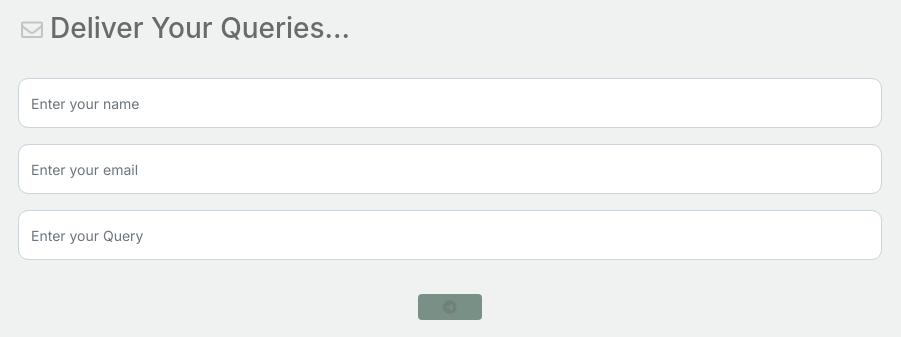
Test: submit button is enabled when all required fields are filled
The image size is (901, 337).
Type "John Doe" into the field with placeholder "Enter your name" at (450, 103), box left=18, top=78, right=882, bottom=128
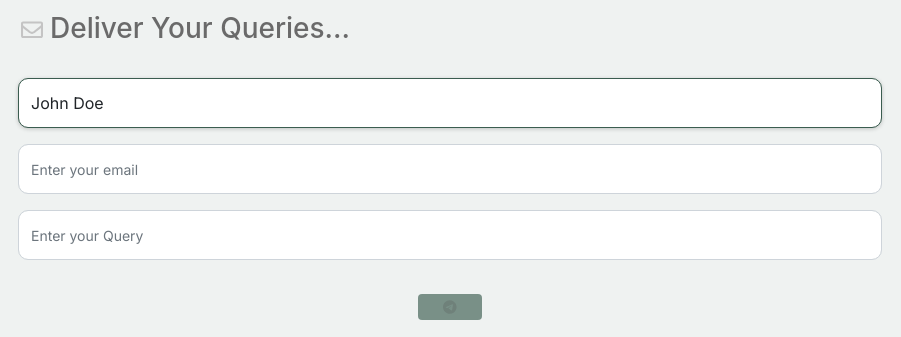
Type "john.doe@example.com" into the field with placeholder "Enter your email" at (450, 169), box left=18, top=144, right=882, bottom=194
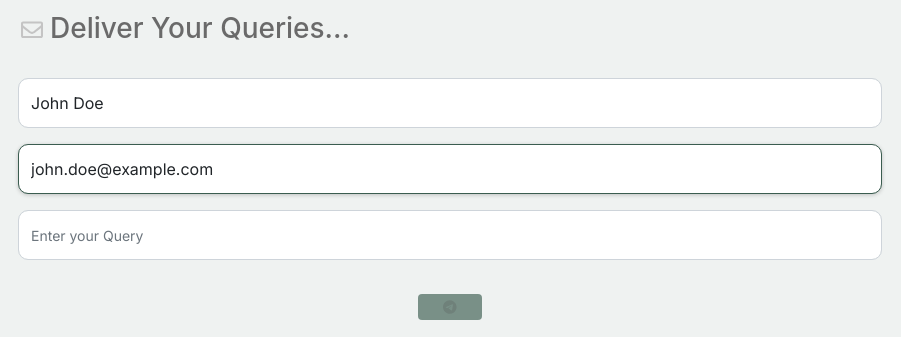
Type "Test query" into the field with placeholder "Enter your Query" at (450, 235), box left=18, top=210, right=882, bottom=260
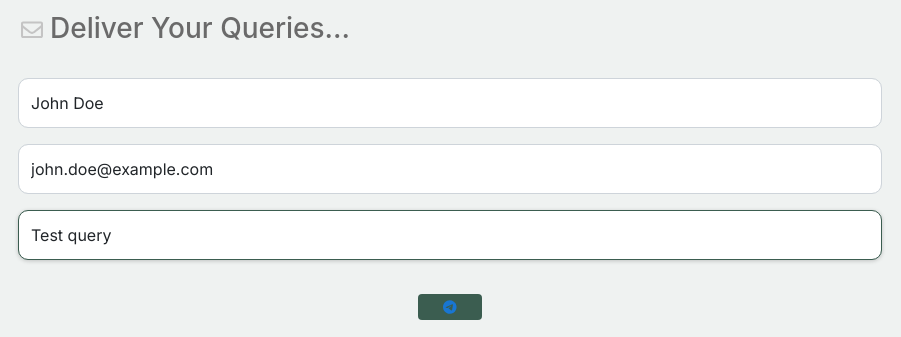
Expected: the button named "Deliver Your Queries..." is enabled, left=418, top=294, right=482, bottom=320
